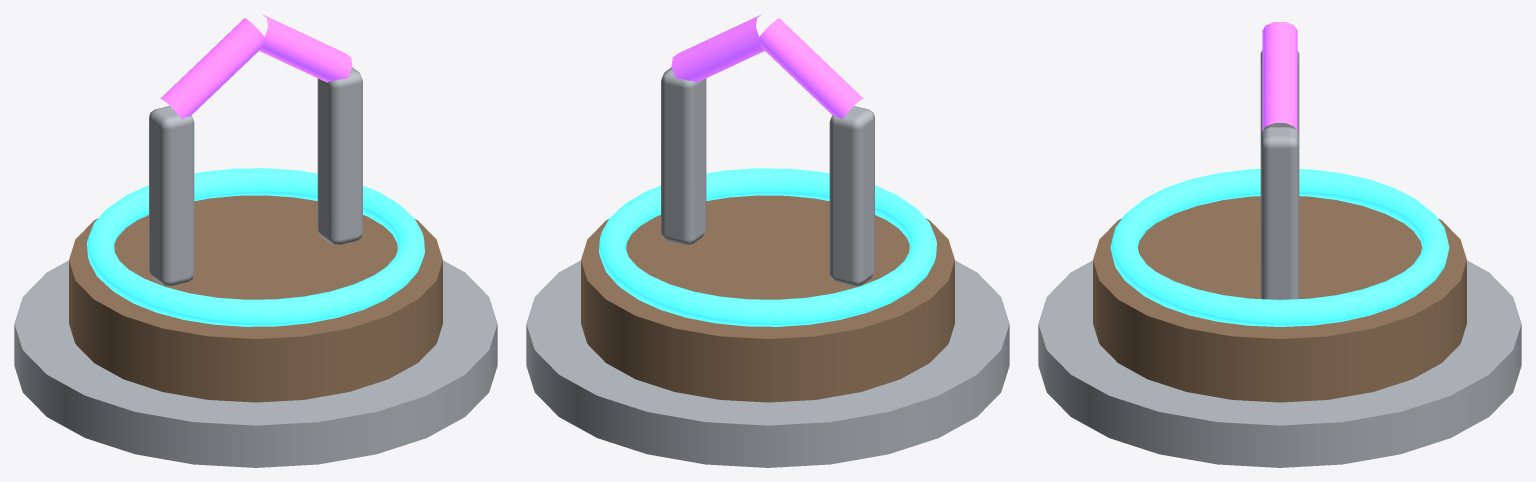
File: arena-shooter-map-kit-power-up-pedestal-ee2644be__23122.glb
3 views of the same model, side by side, from view 1: azimuth 30°, elevation 25°; view 2: azimuth 150°, elevation 25°; view 3: azimuth 270°, elevation 25° (orthographic).
Parts seen in each view (by area): view 1: power-up-pedestal; view 2: power-up-pedestal; view 3: power-up-pedestal.
Part boxes in pixels (x1=…): power-up-pedestal: x1=14, y1=14, x2=497, y2=467; power-up-pedestal: x1=526, y1=14, x2=1009, y2=467; power-up-pedestal: x1=1038, y1=22, x2=1521, y2=467.
Size of the model in its own units: 1.24 by 0.9854 by 1.24.
